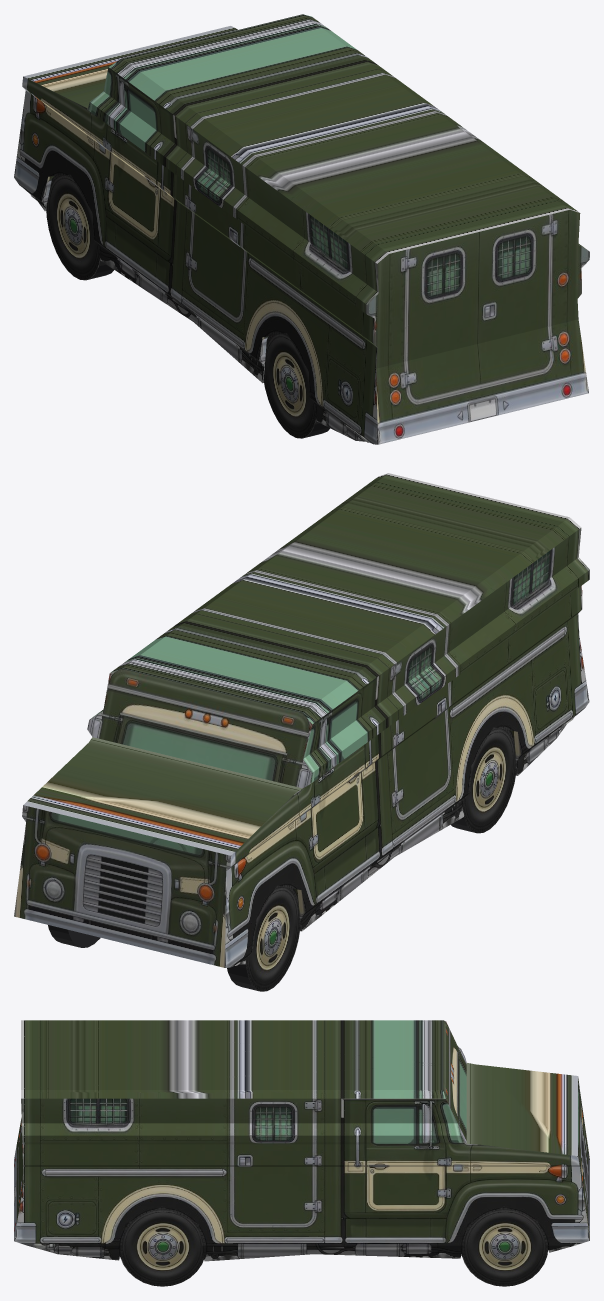
Rendered from armored_truck.glb.
The picture shows the model from 3 angles, top to bottom: view 1: azimuth 30°, elevation 25°; view 2: azimuth 150°, elevation 25°; view 3: azimuth 270°, elevation 25°; orthographic projection. The views are drawn at different scales.
Visible parts, largest first — view 1: armored_truck, wheel_FL, wheel_BL; view 2: armored_truck, wheel_FL, wheel_BL, wheel_FR; view 3: armored_truck, wheel_FR, wheel_BR.
Part boxes in pixels (x1,y1,x2,y2): armored_truck: (14,14,589,444); wheel_FL: (46,174,113,280); wheel_BL: (263,333,329,438); armored_truck: (14,473,589,967); wheel_FL: (227,885,300,991); wheel_BL: (451,727,516,833); wheel_FR: (48,925,100,947); armored_truck: (14,1020,589,1261); wheel_FR: (461,1206,547,1286); wheel_BR: (120,1206,203,1286).
Size of the model in its own units: 2.29 by 2.4 by 6.49.
Materials: 3 (1 with a texture image).
